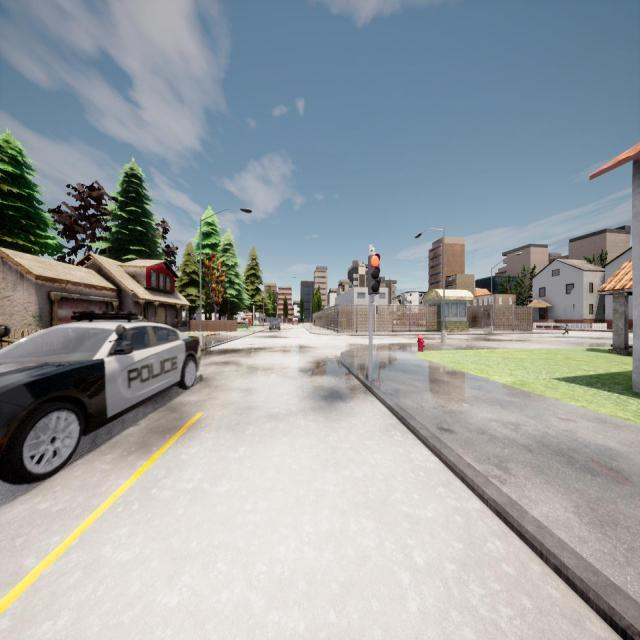Pedestrian: (245, 316, 249, 329), (564, 324, 568, 335)
Vehicle: (0, 320, 199, 481), (269, 321, 281, 330), (292, 318, 298, 326)
traffic_light: (368, 255, 379, 294), (376, 305, 378, 314)
